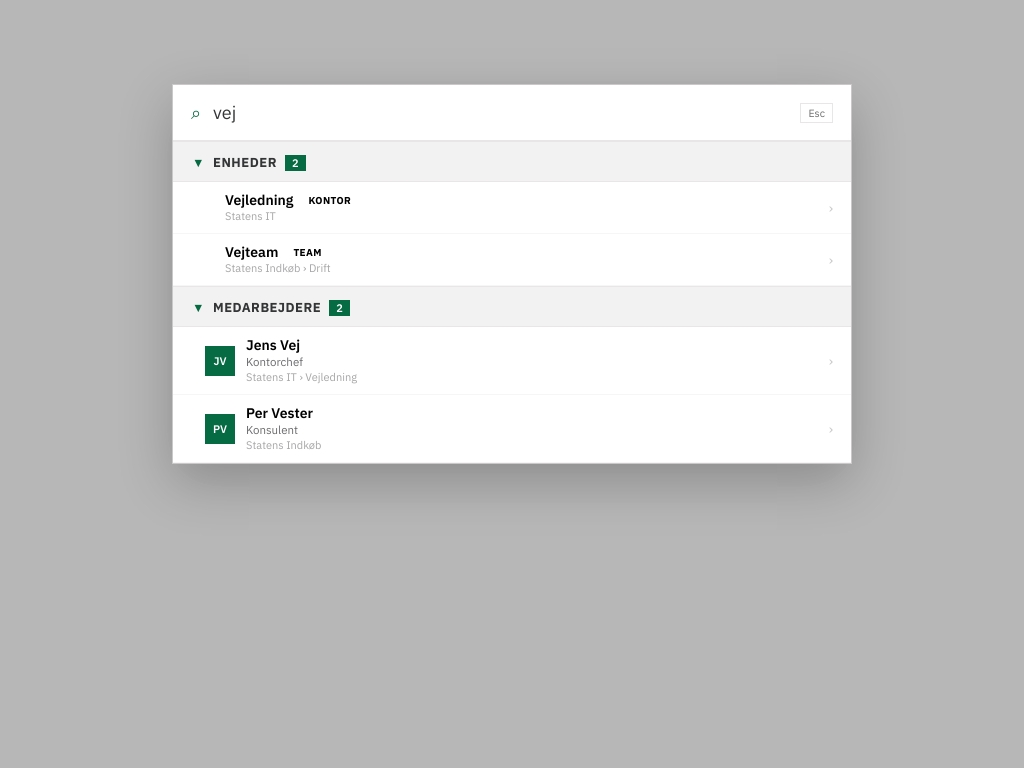
Test case: SearchOverlay — the read-only search palette › a fold caret collapses a section (its rows hide, the header stays)
Expected: the button with test id "search-unit-u1" is shown, [173, 182, 851, 234]
What coordinates should you click on to do the following:
click the button with test id "search-section-enheder"
I would click on:
 (245, 162)
Its box is [173, 141, 851, 182].
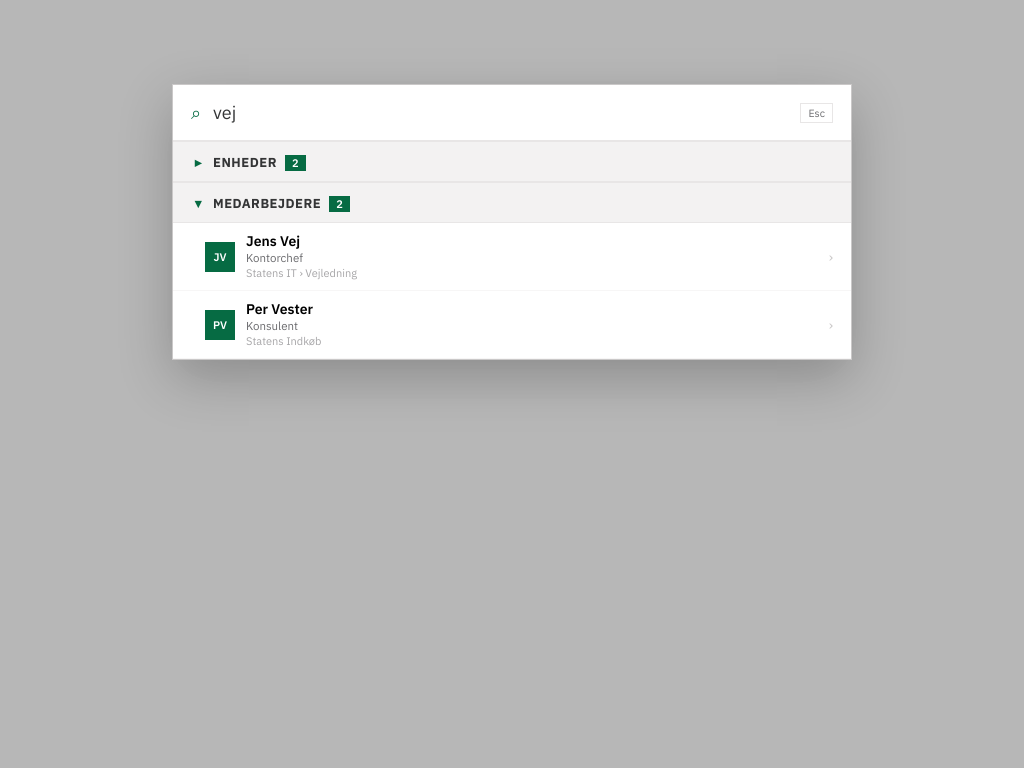
Expected: the button with test id "search-person-p1" is shown, [173, 223, 851, 291]
Now the button with test id "search-unit-u1" is gone
